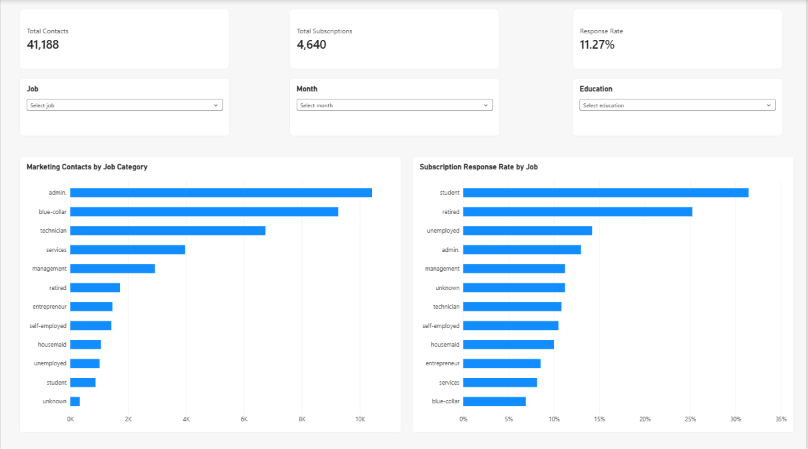

The dashboard page shown, as its layout file describes it:
{"tool":"powerbi","page":{"name":"Campaign Overview","canvas":[1920,1080],"ordinal":0},"visuals":[{"type":"cardVisual","fields":{"Data":["CampaignContacts.Total Contacts"]},"box":[45.3,21.5,500,143.2],"z":0},{"type":"cardVisual","fields":{"Data":["CampaignContacts.Total Subscriptions"]},"box":[689.5,21.5,500,143],"z":1},{"type":"cardVisual","fields":{"Data":["CampaignContacts.Response Rate"]},"box":[1364.7,21.5,500,143],"z":2},{"type":"clusteredBarChart","title":"Marketing Contacts by Job Category","fields":{"Category":["CampaignContacts.job"],"Y":["CampaignContacts.Total Contacts"]},"box":[45.3,372.2,910,660],"z":3},{"type":"listSlicer","title":"Job","fields":{"Values":["CampaignContacts.job"]},"box":[45.3,186.1,501,138.4],"z":4},{"type":"listSlicer","title":"Education","fields":{"Values":["CampaignContacts.education"]},"box":[1364.7,186.1,501,138.4],"z":5},{"type":"listSlicer","title":"Month","fields":{"Values":["CampaignContacts.month"]},"box":[689.5,186.1,501,138.4],"z":6},{"type":"clusteredBarChart","title":"Subscription Response Rate by Job","fields":{"Category":["CampaignContacts.job"],"Y":["CampaignContacts.Response Rate"]},"box":[983,372.2,910,660],"z":7}]}

Visuals, with their boxes in screenshot pixels (x1, y1, x2, y2), scaled from the page's 1920x1080 canvas onto the 808x449 screenshot:
cardVisual - CampaignContacts.Total Contacts: BBox(19, 9, 229, 68)
cardVisual - CampaignContacts.Total Subscriptions: BBox(290, 9, 501, 68)
cardVisual - CampaignContacts.Response Rate: BBox(574, 9, 785, 68)
"Marketing Contacts by Job Category" clusteredBarChart: BBox(19, 155, 402, 429)
"Job" listSlicer: BBox(19, 77, 230, 135)
"Education" listSlicer: BBox(574, 77, 785, 135)
"Month" listSlicer: BBox(290, 77, 501, 135)
"Subscription Response Rate by Job" clusteredBarChart: BBox(414, 155, 797, 429)
